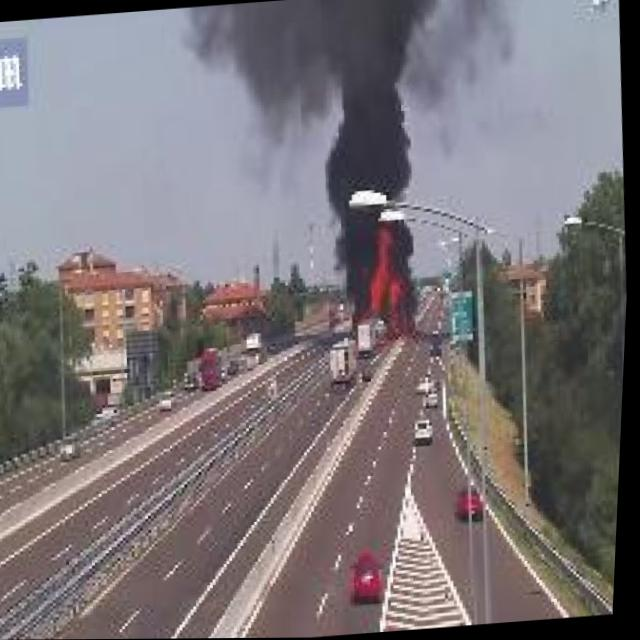fire: (361, 218, 425, 339)
